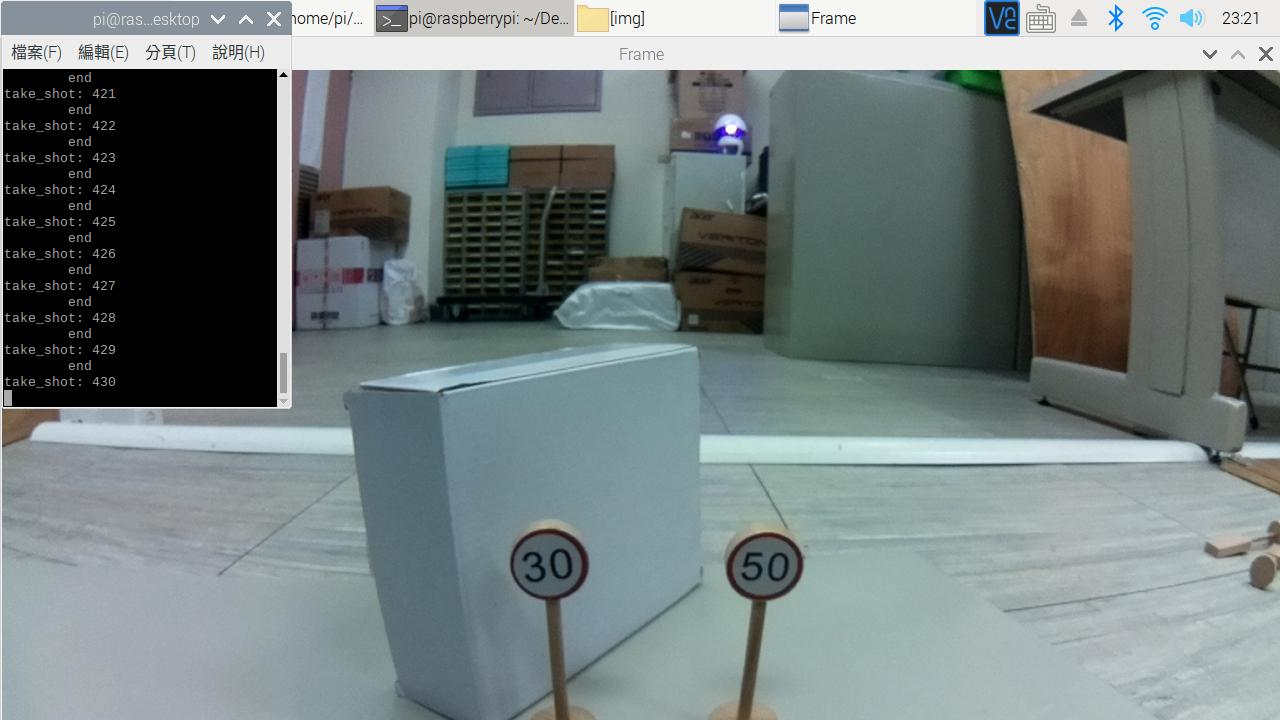Speed30: (482, 512, 622, 642)
Speed50: (699, 513, 824, 626)
